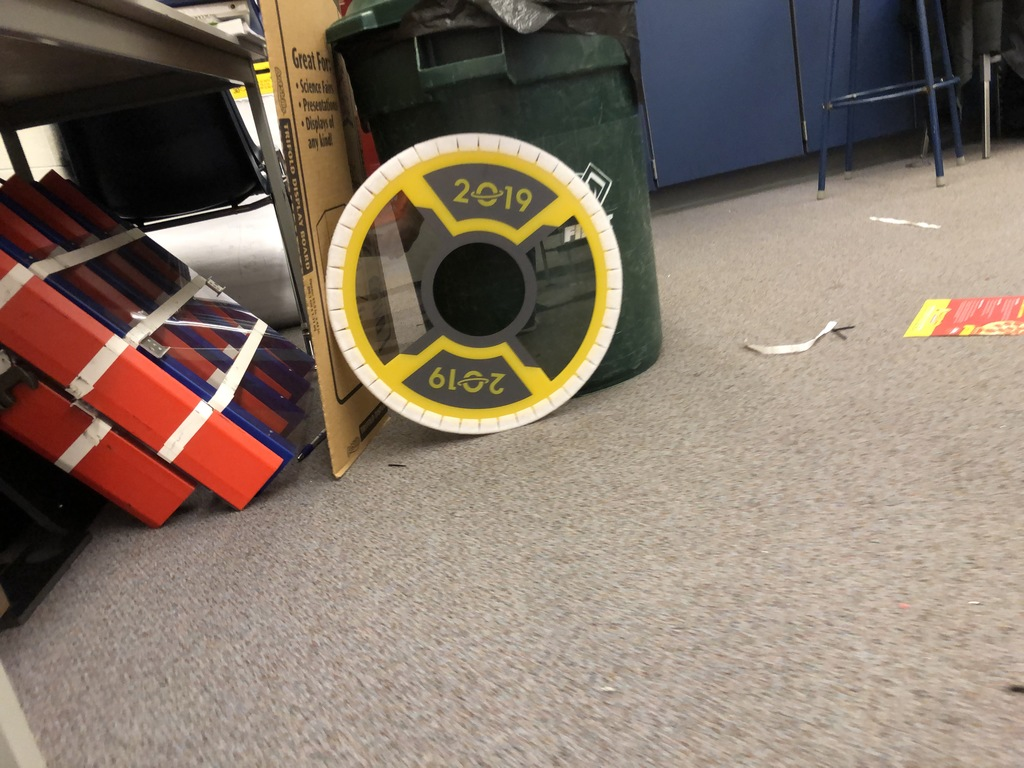hatch_panel: (316, 117, 620, 456)
